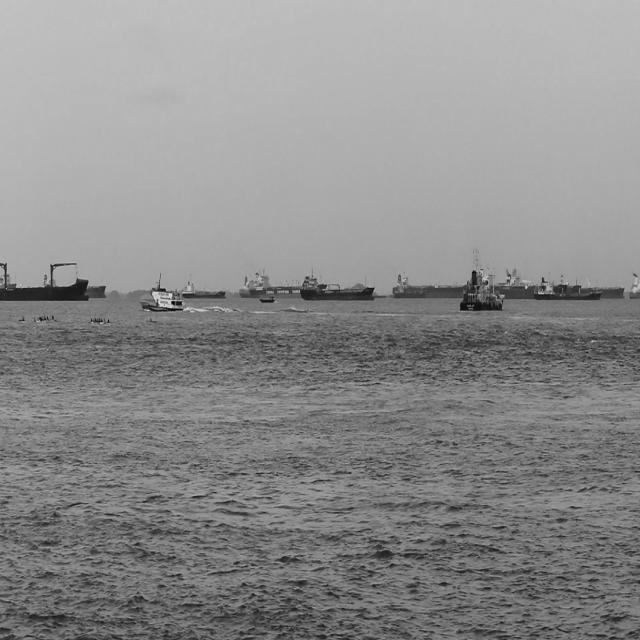kayak: (28, 310, 60, 326), (89, 314, 116, 325), (257, 294, 277, 306), (146, 314, 160, 327), (20, 312, 32, 322)
ship: (384, 263, 530, 297), (0, 258, 92, 300), (521, 262, 628, 296), (459, 244, 507, 312), (301, 266, 377, 301), (241, 259, 303, 296), (534, 271, 603, 299), (137, 282, 189, 316), (42, 271, 106, 296), (179, 269, 226, 299), (0, 268, 22, 289)
